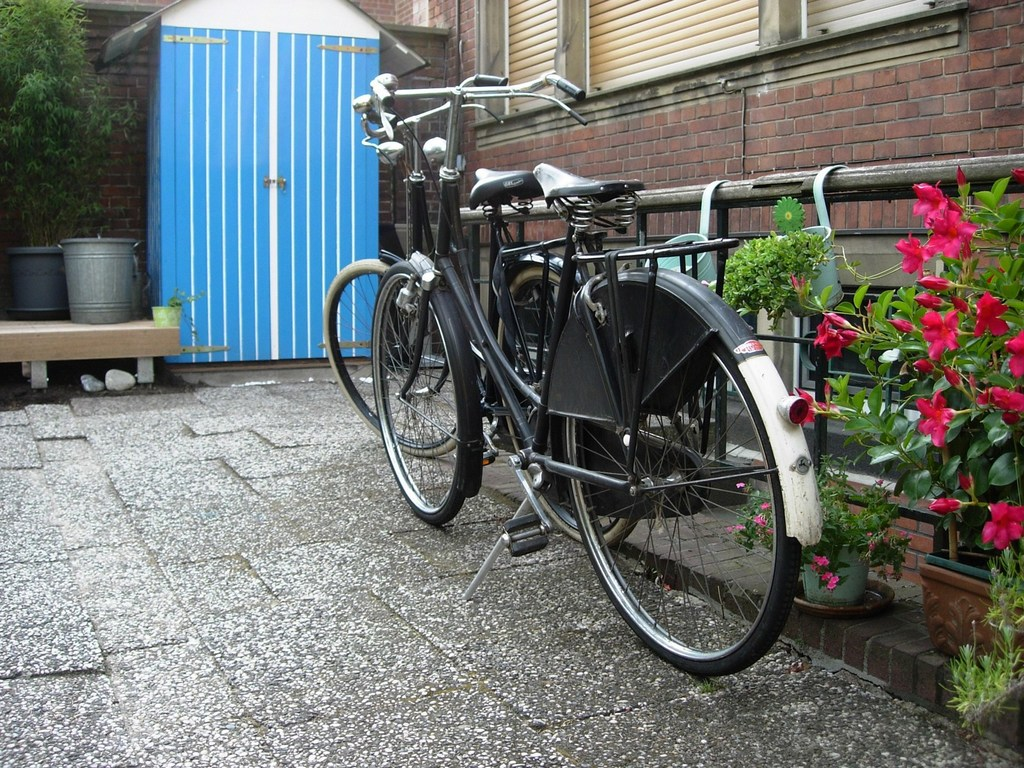Bike_away: (367, 70, 835, 681)
